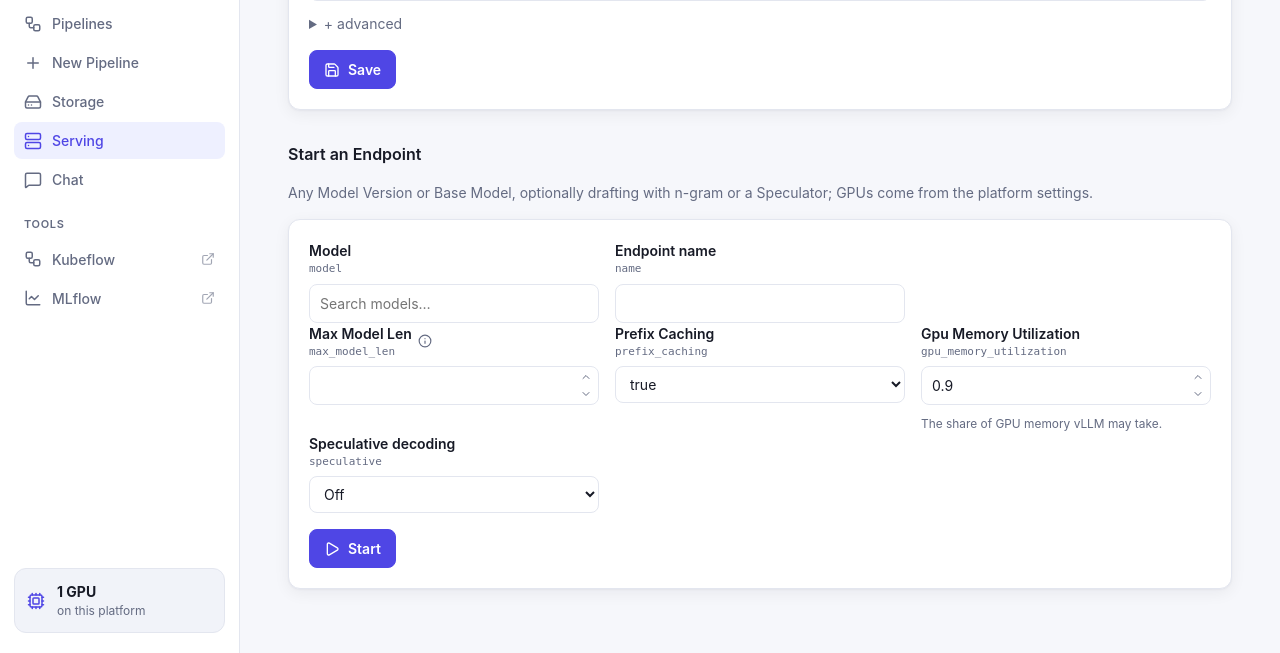
Test: the model picker lists our Model Versions first, then open-source models
(page scrolled)
Click the dropdown labelled "Model model": x=454, y=303 top-left (309, 284), bottom-right (599, 322)
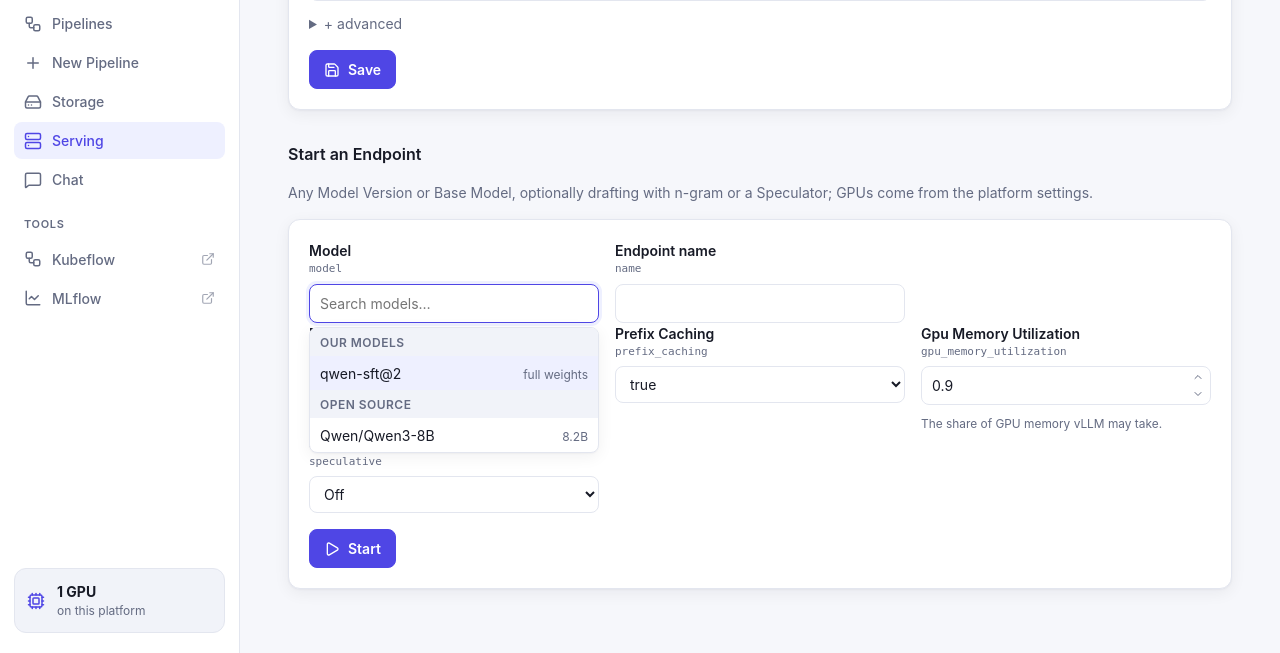
Now the options read "qwen-sft@2full weights", "Qwen/Qwen3-8B8.2B", in this order, box top-left (310, 356), bottom-right (598, 390); top-left (320, 426), bottom-right (588, 444)
